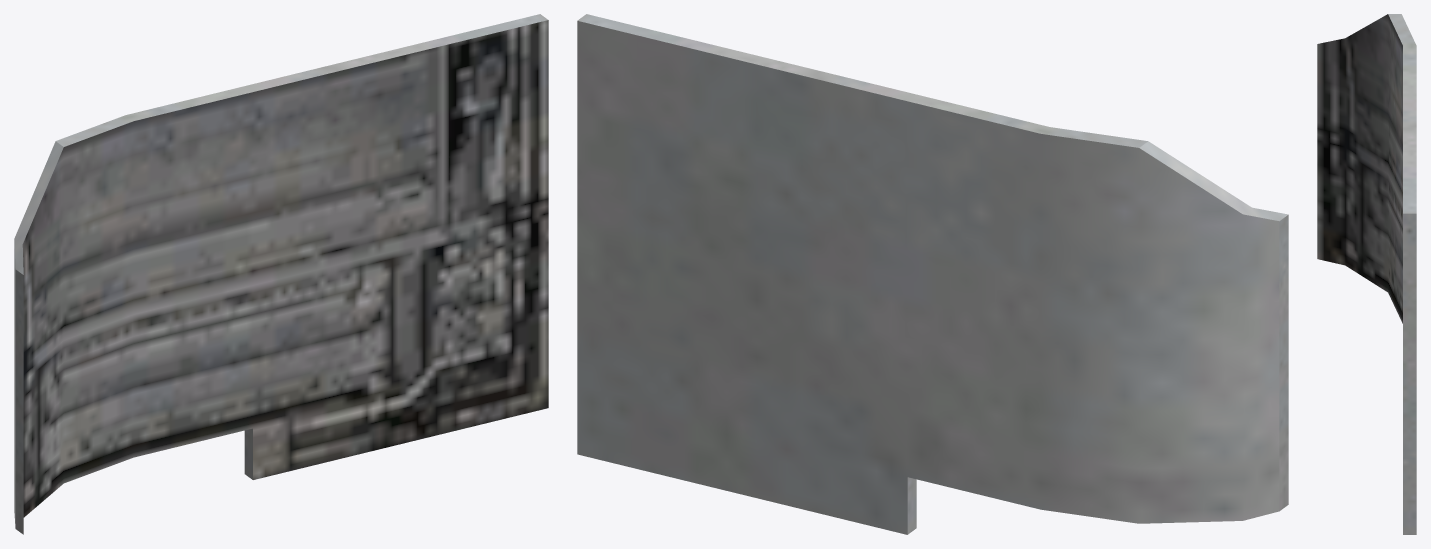
File: lambda_geardoor_b1.fbx
The picture shows the model from 3 angles, left to right: view 1: azimuth 30°, elevation 25°; view 2: azimuth 150°, elevation 25°; view 3: azimuth 270°, elevation 25°; orthographic projection. The views are drawn at different scales.
Parts seen in each view (by area): view 1: mesh_node; view 2: mesh_node; view 3: mesh_node.
Part boxes in pixels (x1=…): mesh_node: x1=14, y1=14, x2=548, y2=534; mesh_node: x1=577, y1=14, x2=1288, y2=534; mesh_node: x1=1317, y1=14, x2=1416, y2=534.
Bounding box in the file's own units: 2.92 × 1.88 × 0.5259.
